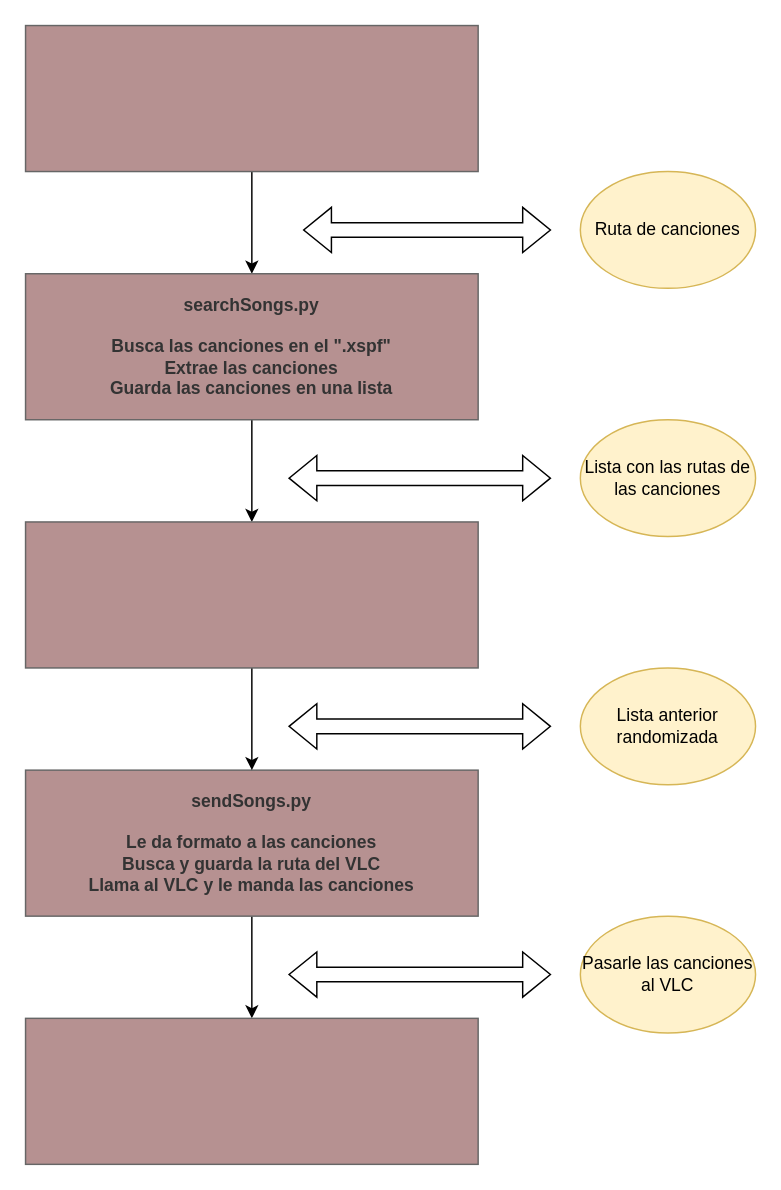
This 781x1190 diagram has some shape labels left out. Each missing label, with the box of its shape:
app.py Importa todos los módulos anteriores: (24, 1017, 478, 1164)
findXSPF.py Busca el archivo ".xspf" Guarda la ruta del ".xspf": (24, 24, 478, 172)
randomizer.py Randomiza una lista de canciones: (24, 520, 478, 668)
